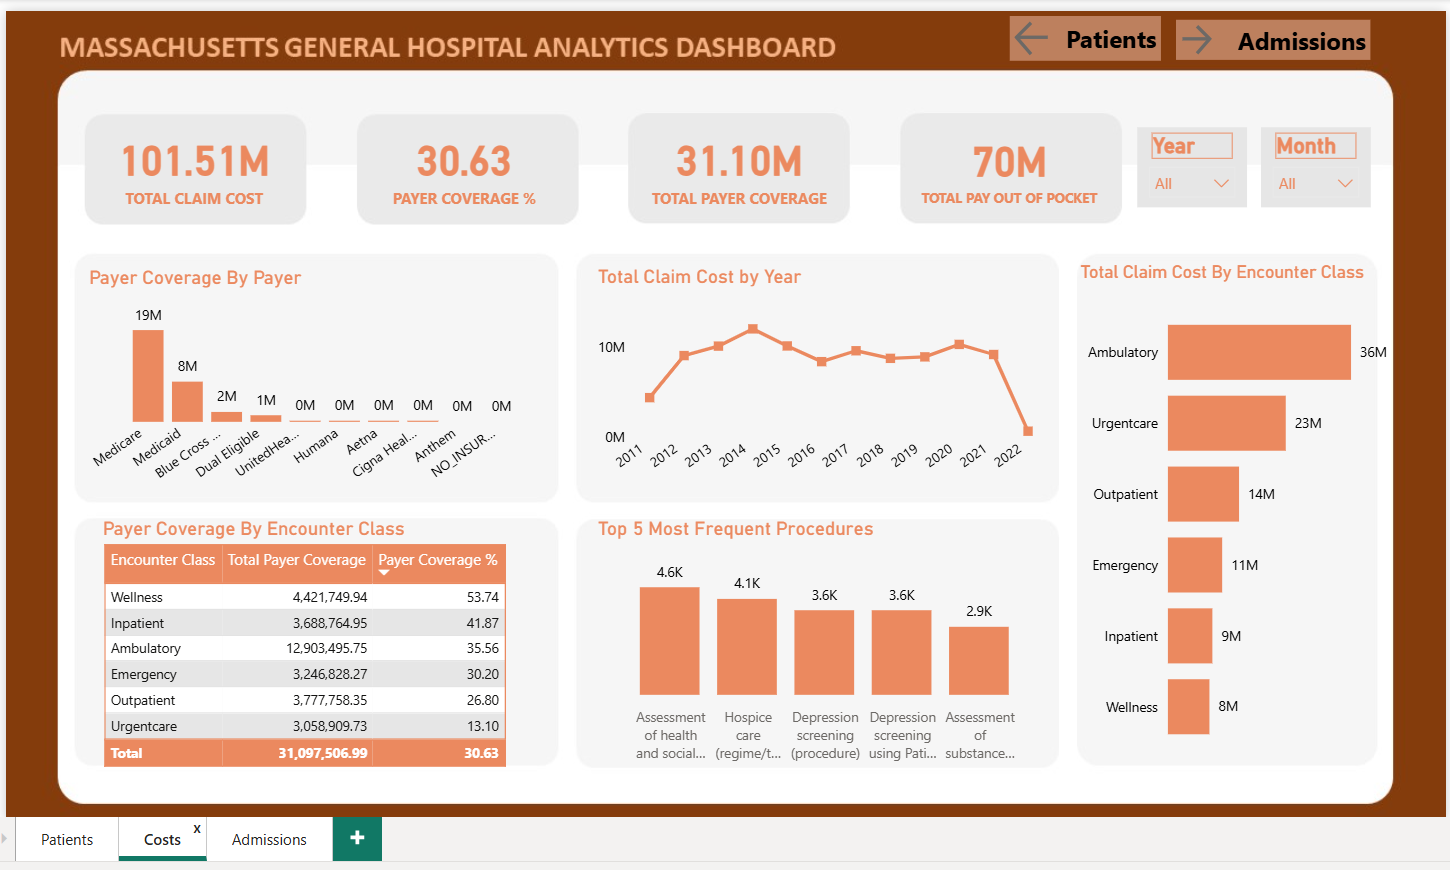

Layout of this report page (visuals, bound fields, positions):
{"tool":"powerbi","page":{"name":"Costs","canvas":[1280,720],"ordinal":1},"visuals":[{"type":"clusteredColumnChart","title":"Top 5 Most Frequent Procedures","fields":{"Category":["procedures.PROCEDURES_DESCRIPTION"],"Y":["CountNonNull(procedures.PROCEDURES_DESCRIPTION)"]},"box":[521.4,450.1,404.8,225],"z":0},{"type":"card","fields":{"Values":["Sum(encounters.TOTAL_CLAIM_COST)"]},"box":[81,97.4,172.9,82.3],"z":1000},{"type":"card","fields":{"Values":["encounters.Payer Coverage %"]},"box":[321.1,97.4,172.9,82.3],"z":2000},{"type":"card","fields":{"Values":["encounters.Total Payer Coverage"]},"box":[565.4,97.4,172.9,82.3],"z":3000},{"type":"clusteredBarChart","title":"Total Claim Cost By Encounter Class","fields":{"Category":["encounters.ENCOUNTER_CLASS"],"Y":["Sum(encounters.TOTAL_CLAIM_COST)"]},"box":[949.6,223.7,282.7,451.5],"z":4000},{"type":"card","fields":{"Values":["encounters.Total Pay out of Pocket"]},"box":[805.5,97.4,172.9,82.3],"z":5000},{"type":"lineChart","title":"Total Claim Cost by Year","fields":{"Y":["Sum(encounters.TOTAL_CLAIM_COST)"],"Category":["encounters.ENCOUNTER_START.Variation.Date Hierarchy.Year"]},"box":[521.4,225,404.8,201.7],"z":6000},{"type":"tableEx","title":"Payer Coverage By Payer","fields":{"Values":["encounters.ENCOUNTER_CLASS","encounters.Total Ins Coverage","encounters.Ins Coverage Percentage"]},"box":[81,450.1,425.4,234.6],"z":7000},{"type":"clusteredColumnChart","title":"Payer Coverage By Payer","fields":{"Category":["payers.PAYERS_NAME"],"Y":["Sum(encounters.PAYER_COVERAGE)"]},"box":[68.6,226.4,404.8,201.7],"z":8000},{"type":"slicer","fields":{"Values":["encounters.ENCOUNTER_START.Variation.Date Hierarchy.Year"]},"box":[1005.8,102.9,97.4,71.4],"z":9000},{"type":"slicer","fields":{"Values":["encounters.Month"]},"box":[1115.6,102.9,97.4,71.4],"z":10000},{"type":"actionButton","box":[1040.1,8.2,172.9,35.7],"z":11000},{"type":"actionButton","box":[891.9,4.1,134.5,39.8],"z":12000}]}

Visuals, with their boxes on the page's 1280x720 design canvas (x1, y1, x2, y2). These are canvas units, not pixel positions in the 1450x870 screenshot, which may show the page scaled, cropped or inside an application window:
"Top 5 Most Frequent Procedures" clusteredColumnChart: rect(521, 450, 926, 675)
card - Sum(encounters.TOTAL_CLAIM_COST): rect(81, 97, 254, 180)
card - encounters.Payer Coverage %: rect(321, 97, 494, 180)
card - encounters.Total Payer Coverage: rect(565, 97, 738, 180)
"Total Claim Cost By Encounter Class" clusteredBarChart: rect(950, 224, 1232, 675)
card - encounters.Total Pay out of Pocket: rect(806, 97, 978, 180)
"Total Claim Cost by Year" lineChart: rect(521, 225, 926, 427)
"Payer Coverage By Payer" tableEx: rect(81, 450, 506, 685)
"Payer Coverage By Payer" clusteredColumnChart: rect(69, 226, 473, 428)
slicer - encounters.ENCOUNTER_START.Variation.Date Hierarchy.Year: rect(1006, 103, 1103, 174)
slicer - encounters.Month: rect(1116, 103, 1213, 174)
actionButton: rect(1040, 8, 1213, 44)
actionButton: rect(892, 4, 1026, 44)
